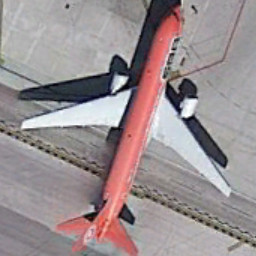Airplane: (18, 1, 240, 255)
